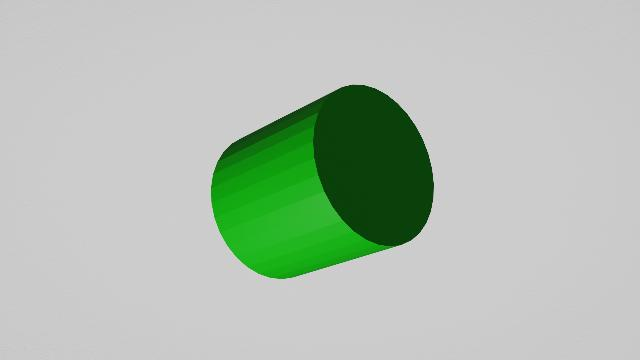Cylinder: (200, 78, 460, 284)
